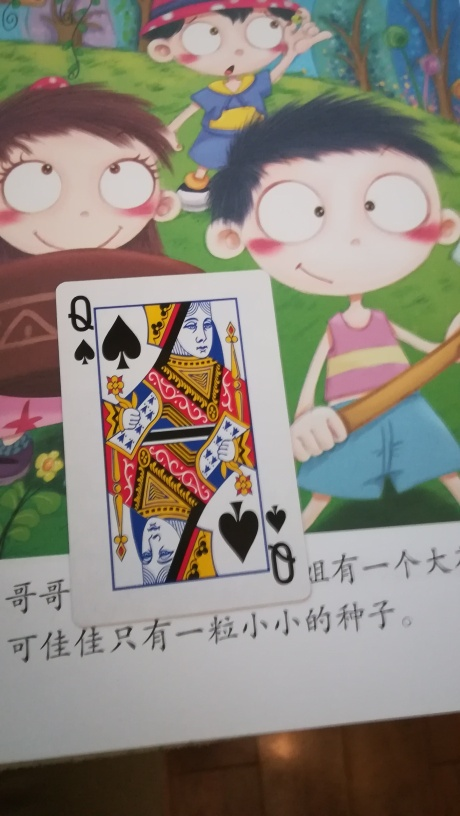ht q: (49, 268, 318, 632)
